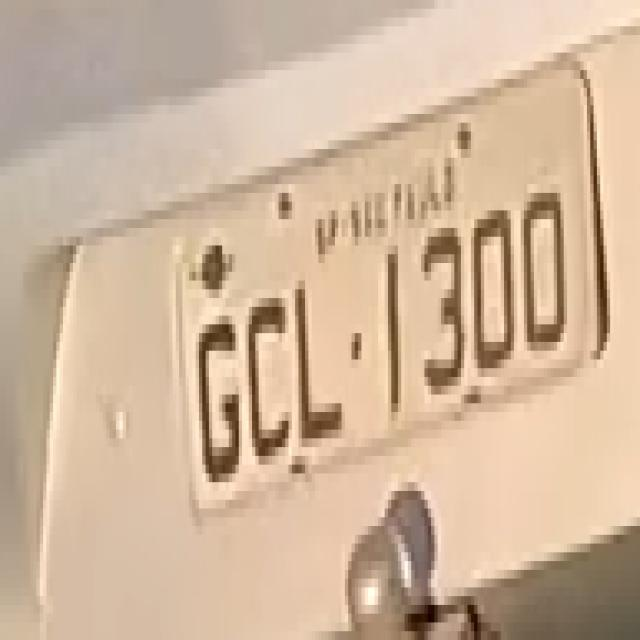Placa_mercosul_carro: (176, 52, 612, 532)
